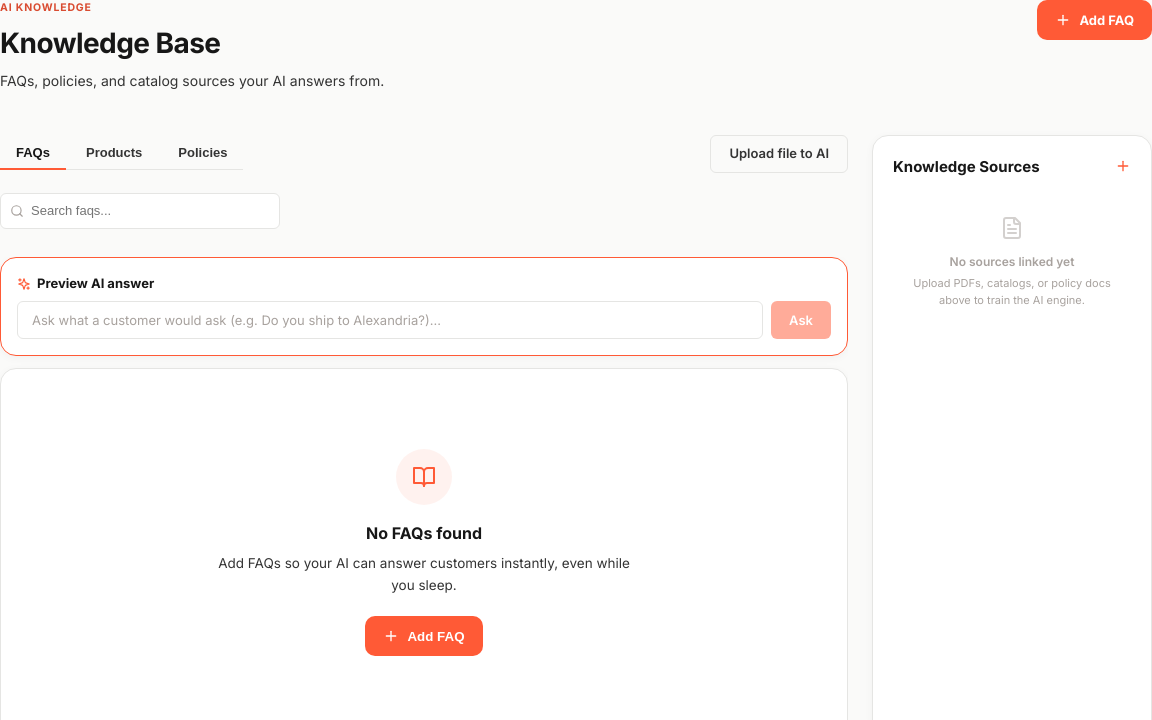
Test: Knowledge page › manages sources rail items: adding and deleting sources
Click the button titled "Add Source".
click(1123, 167)  # box [1115,158,1131,176]
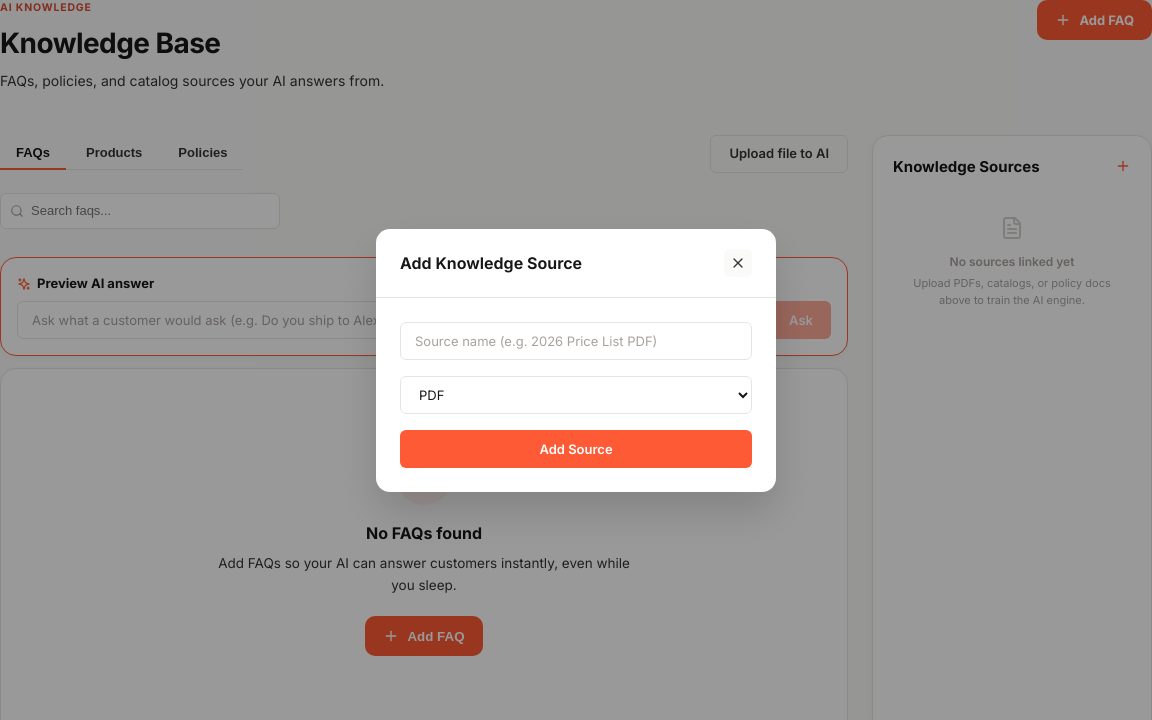
Type "Product Specsheet 2026" into the field with placeholder "Source name (e.g. 2026 Price List PDF)".
click(576, 340); type("Product Specsheet 2026")  # box [400,322,752,360]
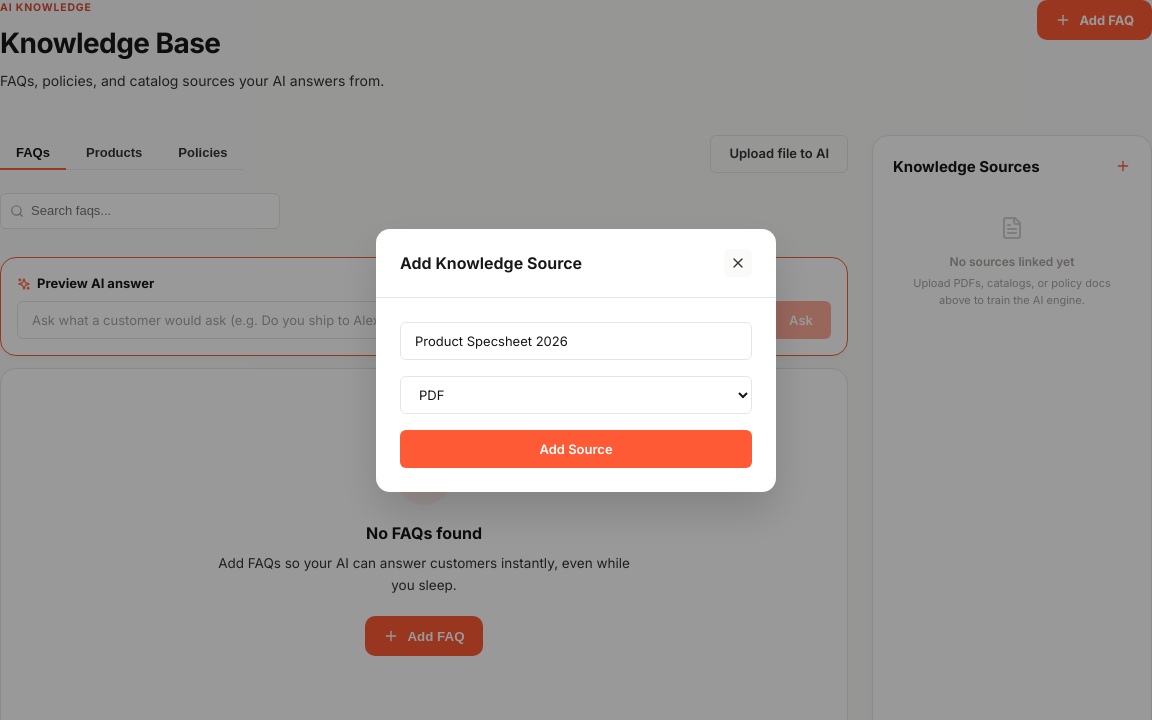
Click the button "Add Source".
click(576, 448)  # box [400,430,752,468]
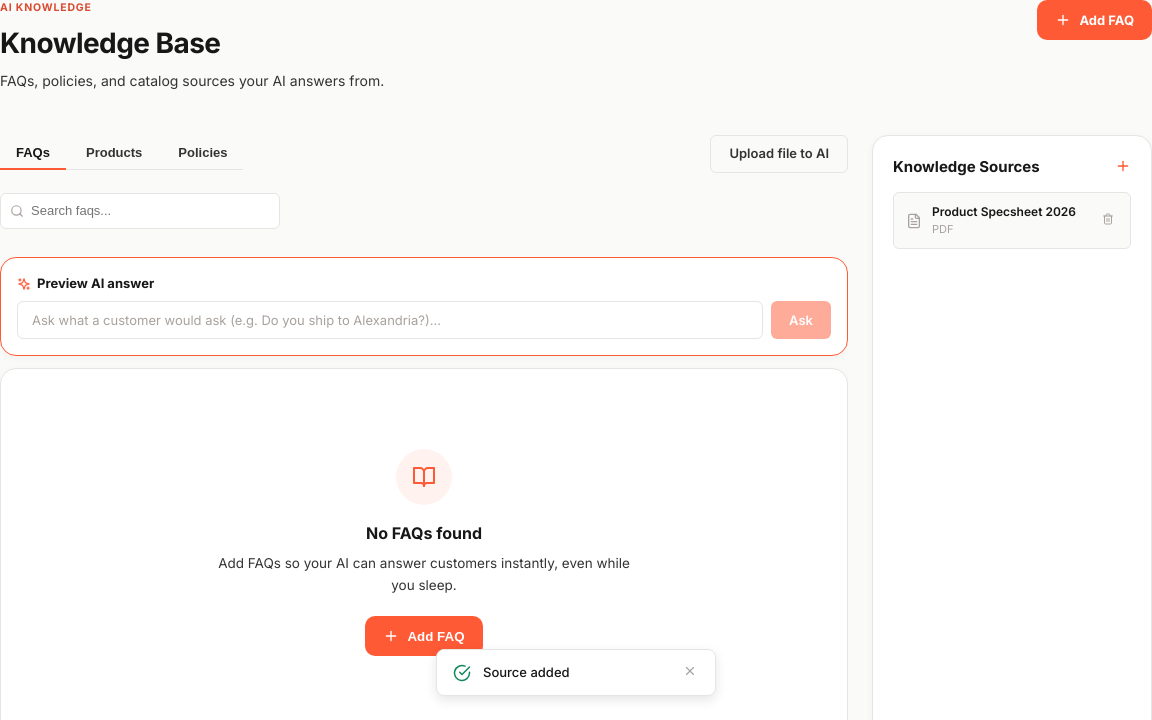
Expected: the text "Source added" is shown, [483,664,570,680]
Expected: the text "Product Specsheet 2026" is shown, [932,203,1088,221]
Click the button titled "Delete source".
click(1108, 220)  # box [1098,209,1118,232]
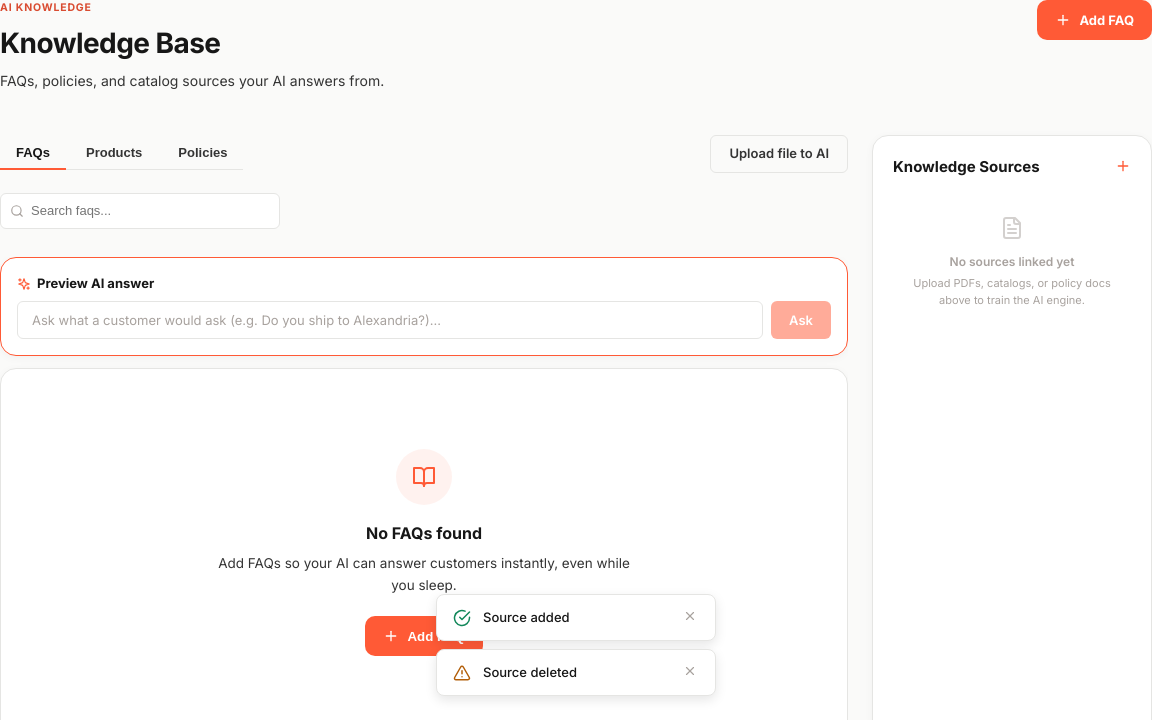
Expected: the text "Source deleted" is shown, [483,664,577,680]
